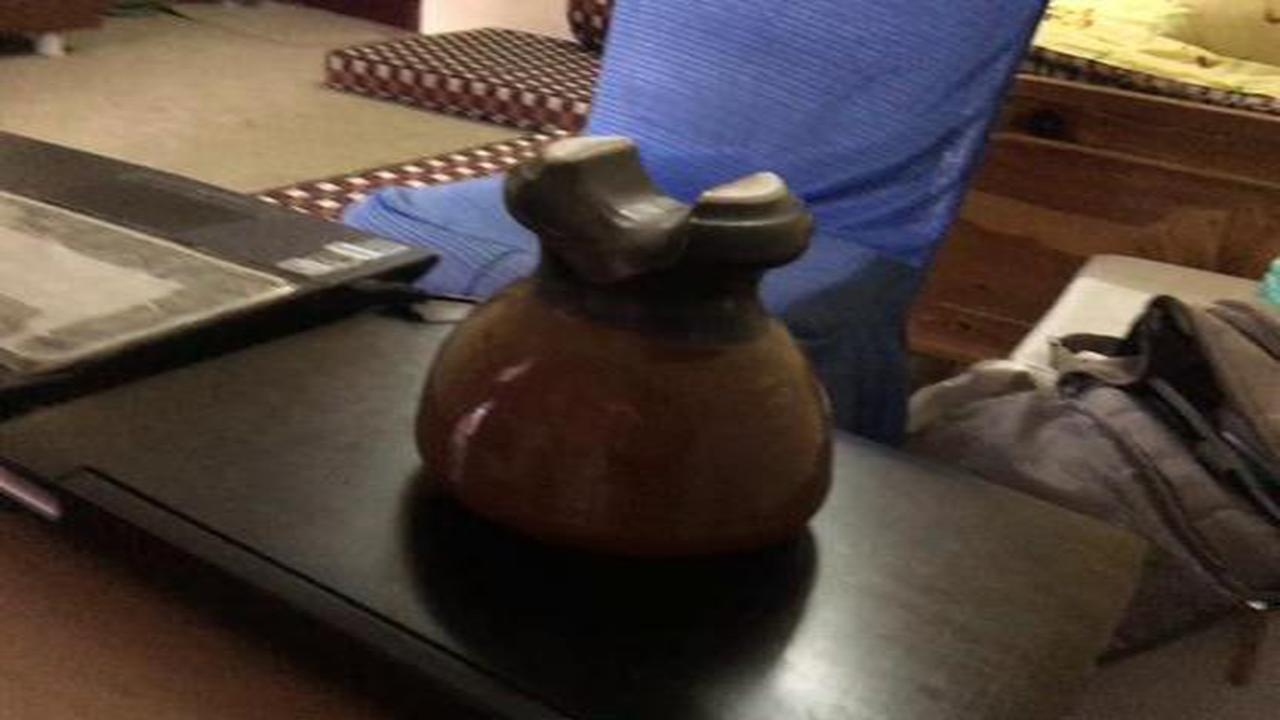insulator_pin: (400, 123, 859, 582)
